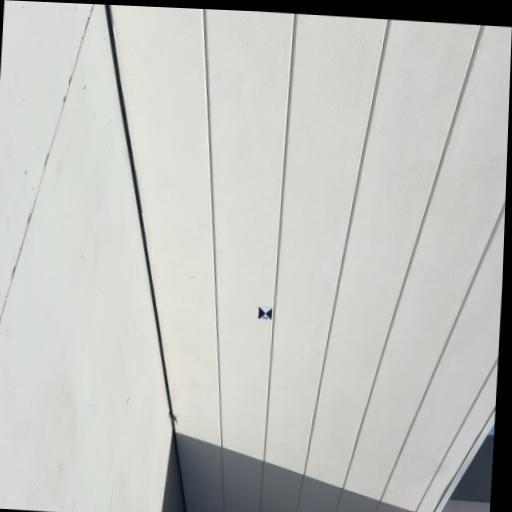target7: (259, 306, 272, 322)
